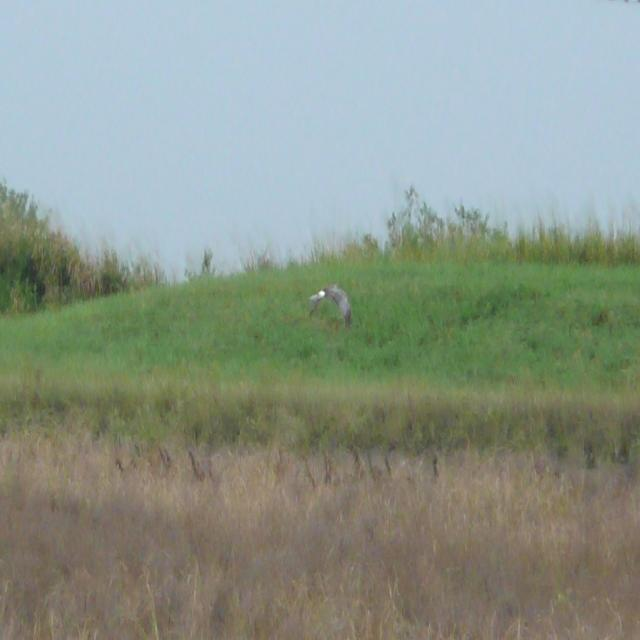bird: (304, 286, 354, 326)
